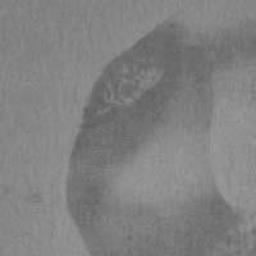Oil spot: (64, 5, 256, 256)
